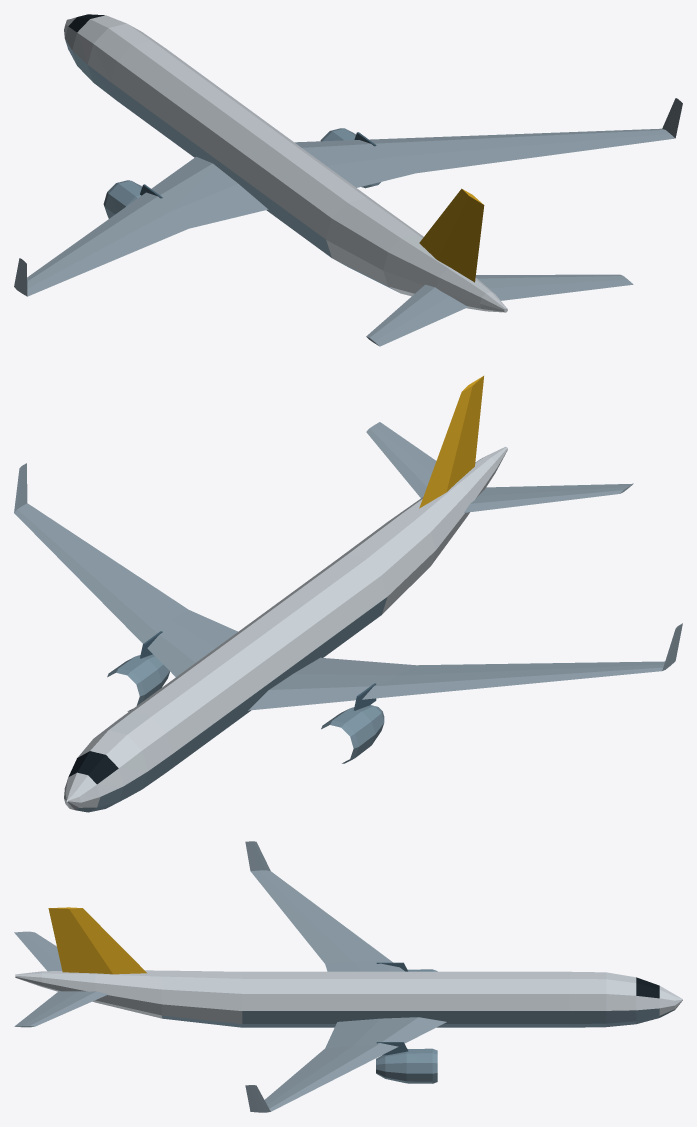
3 renders of one model, top to bottom at view 1: azimuth 30°, elevation 25°; view 2: azimuth 150°, elevation 25°; view 3: azimuth 270°, elevation 25°, orthographic. The views are drawn at different scales.
Parts seen in each view (by area): view 1: lod0; view 2: lod0; view 3: lod0.
Part boxes in pixels (<box>): lod0: <box>14,14,682,346</box>; lod0: <box>14,376,682,812</box>; lod0: <box>14,841,682,1112</box>.
Size of what is drawn, in the model's own units: 0.8617 by 0.2205 by 1.
